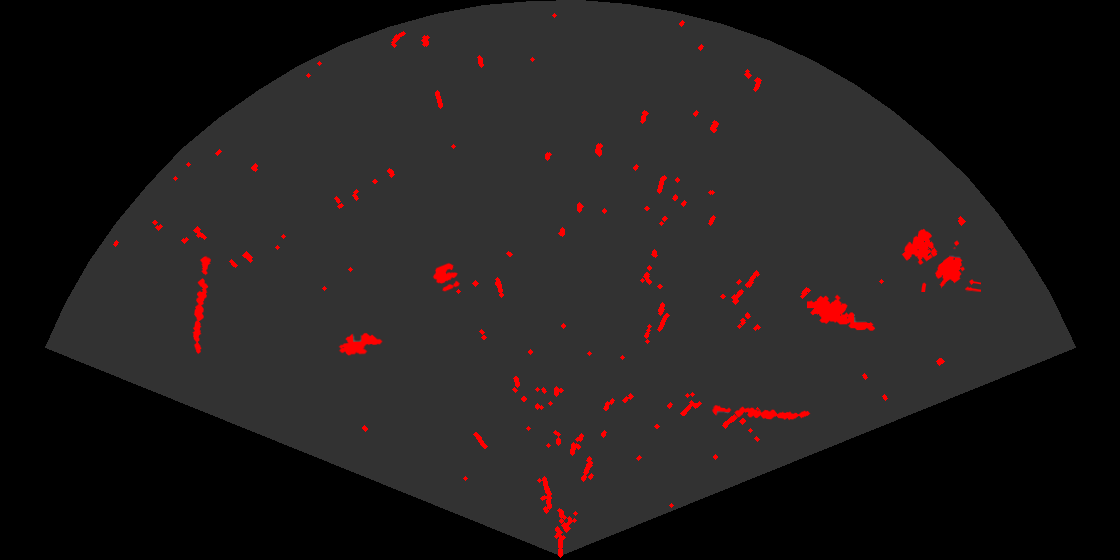AUV: (337, 331, 384, 357)
ball: (431, 261, 461, 293)
cage: (900, 227, 981, 292)
chain: (191, 253, 212, 356), (710, 404, 812, 422)
frogman: (807, 293, 875, 332)
